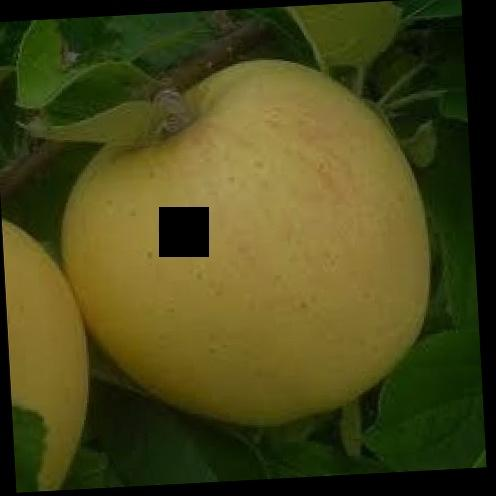green apple: (60, 55, 445, 434)
